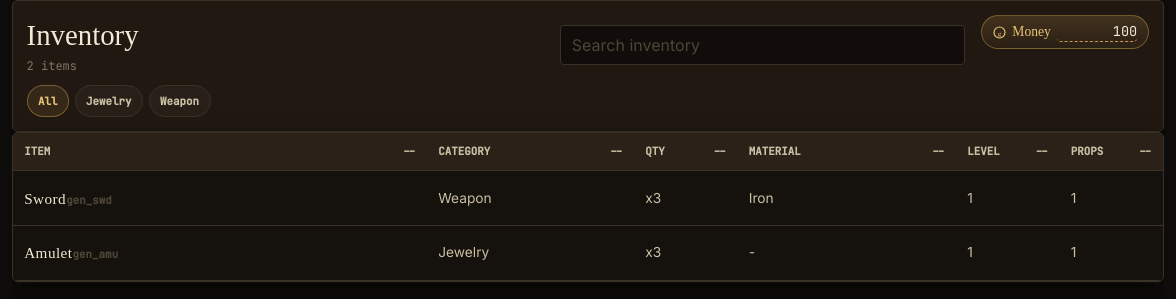
InventoryTable › filters by search
This screenshot has width=1176, height=299.
Type "spirit" into the search field labelled "Search inventory" at coordinates (762, 45), box [560,24,965,65]
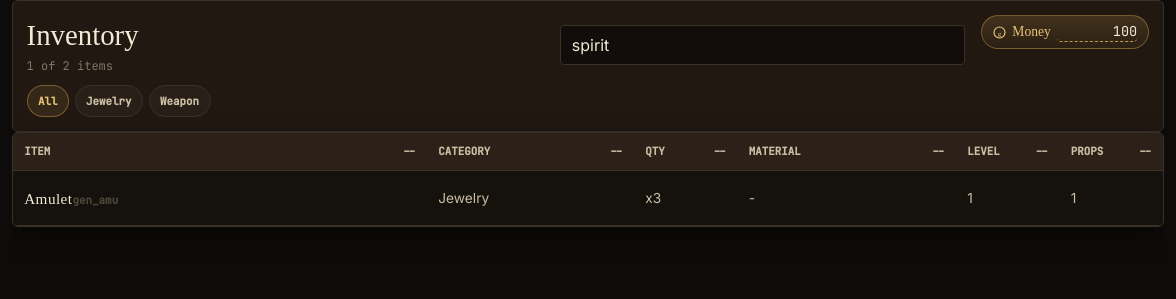
Expected: the text "Amulet" is shown, [24,190,72,207]
Now the button "Sword" is gone
Now the text "1 of 2 items" is shown, box [27,58,113,74]
